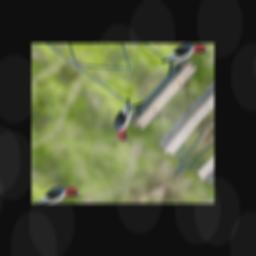Woodpecker: (102, 97, 155, 147)
